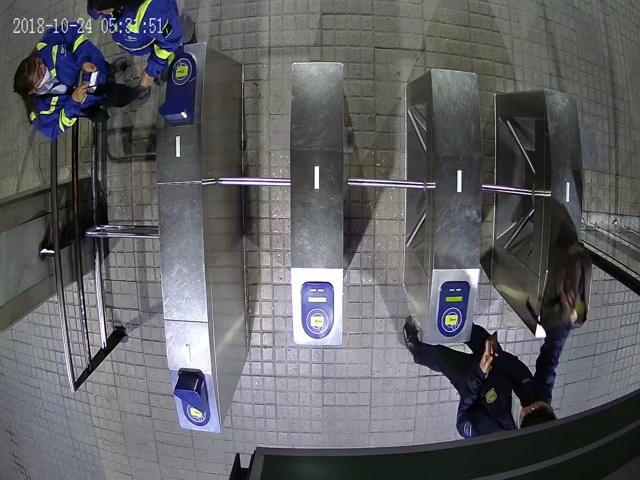Chaleco_azul: (12, 22, 151, 138), (85, 1, 199, 90)
